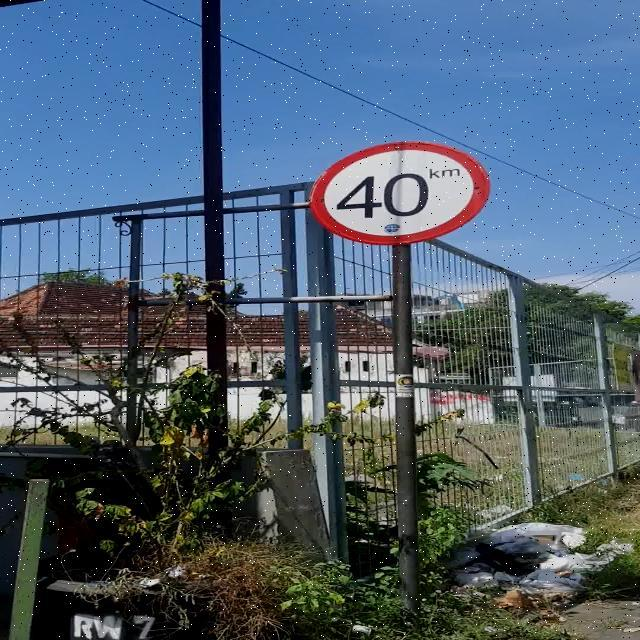Kecepatan Maks. 40 km: (309, 142, 491, 246)
